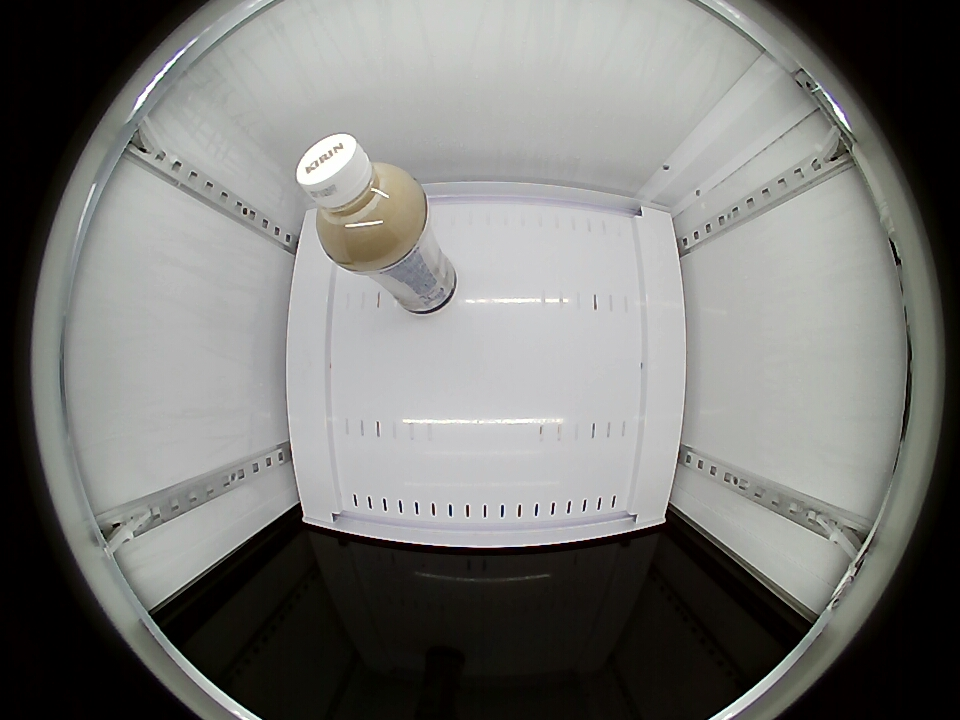wuhounaicha: (298, 133, 427, 270)
